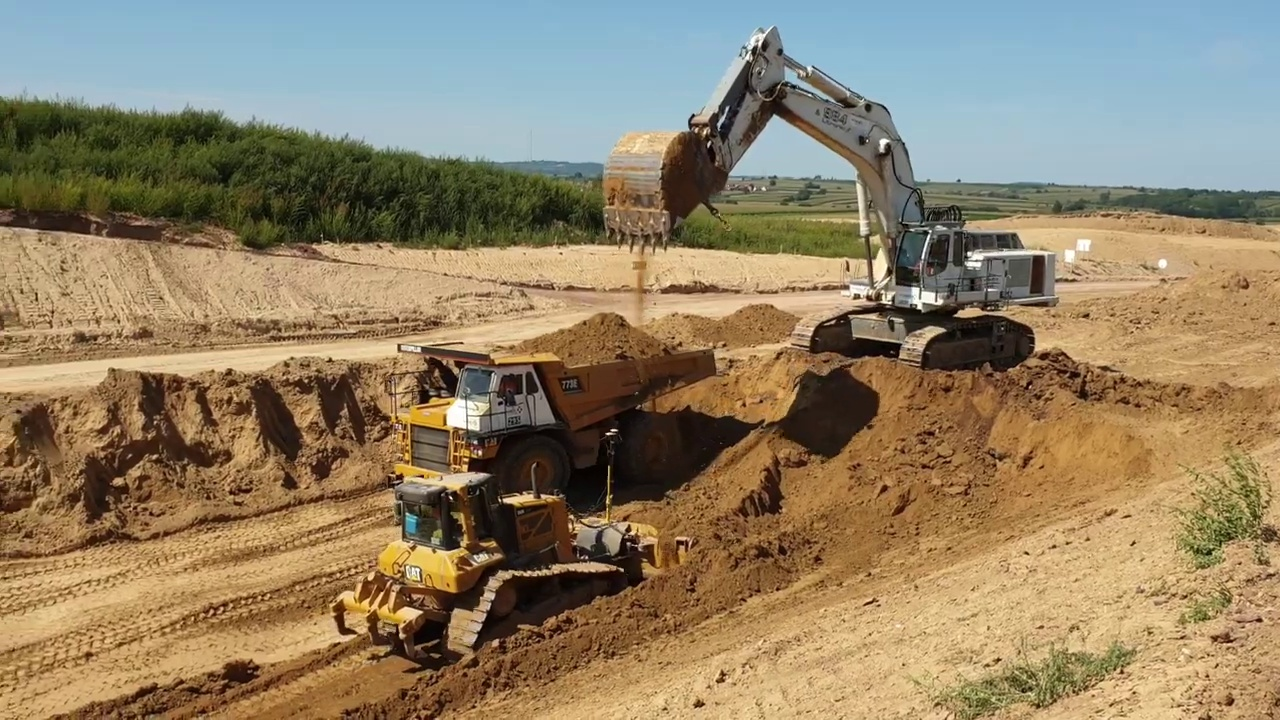bulldozer: (332, 424, 698, 664)
excavator: (597, 24, 1059, 375)
truck: (388, 328, 721, 510)
